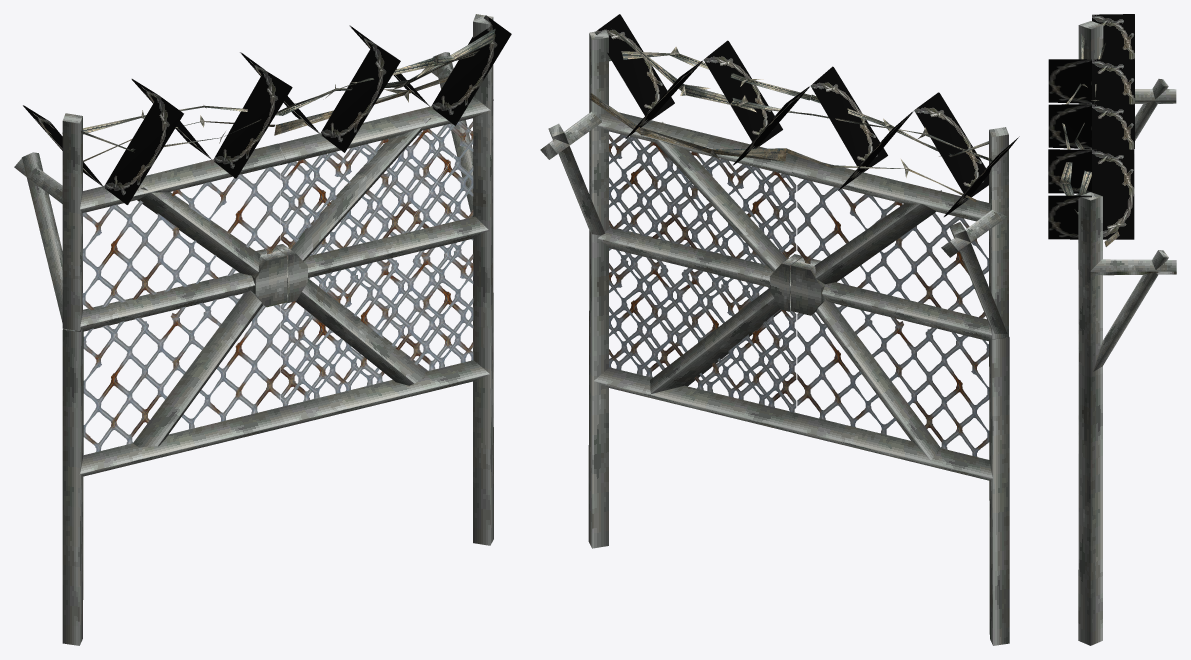
The model's file is C1SMHIGHFENCEH.obj.
3 renders of one model, left to right at view 1: azimuth 30°, elevation 25°; view 2: azimuth 150°, elevation 25°; view 3: azimuth 270°, elevation 25°, orthographic. The views are drawn at different scales.
Parts seen in each view (by area): view 1: Node 3, Node 4, Node 2, Node 0; view 2: Node 3, Node 4, Node 2, Node 0; view 3: Node 3, Node 2.
Boxes of the visible parts, x1,y1,x2,y2 form: Node 3: [70, 14, 511, 545]; Node 4: [62, 131, 473, 645]; Node 2: [14, 70, 295, 331]; Node 0: [80, 360, 489, 476]; Node 3: [540, 14, 995, 548]; Node 4: [609, 143, 1009, 645]; Node 2: [786, 66, 1019, 339]; Node 0: [594, 367, 992, 480]; Node 3: [1048, 104, 1176, 645]; Node 2: [1048, 14, 1176, 149].
Bounding box in the file's own units: 5.71 × 6.42 × 1.67.
Materials: 10 (10 with a texture image).
